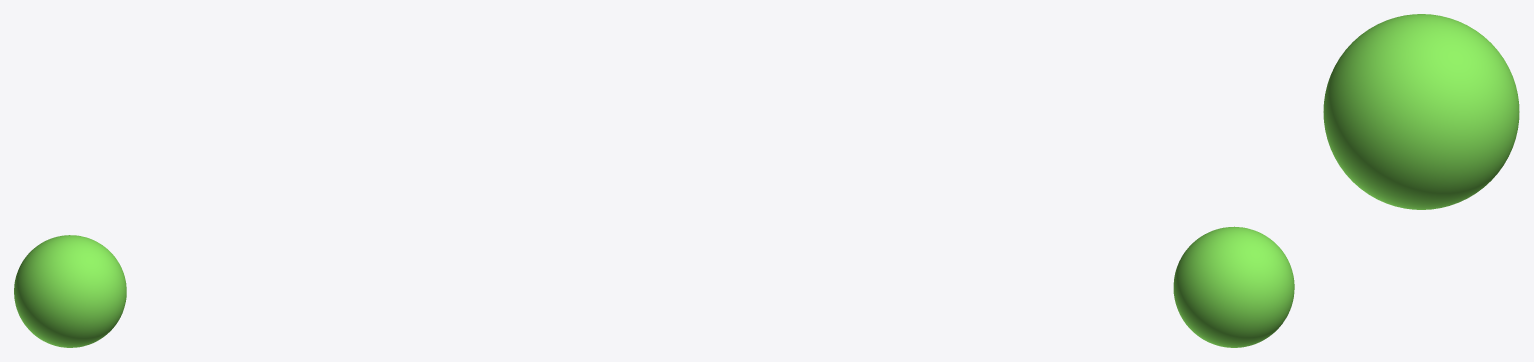
Rendered from Jewel.fbx.
The picture shows the model from 3 angles, left to right: view 1: azimuth 30°, elevation 25°; view 2: azimuth 150°, elevation 25°; view 3: azimuth 270°, elevation 25°; orthographic projection. The views are drawn at different scales.
Visible parts, largest first — view 1: Body1; view 2: Body1; view 3: Body1.
Boxes of the visible parts, x1=… form: Body1: x1=14, y1=235, x2=126, y2=347; Body1: x1=1173, y1=226, x2=1294, y2=347; Body1: x1=1323, y1=14, x2=1519, y2=209.
Bounding box in the file's own units: 457 × 135 × 75.
